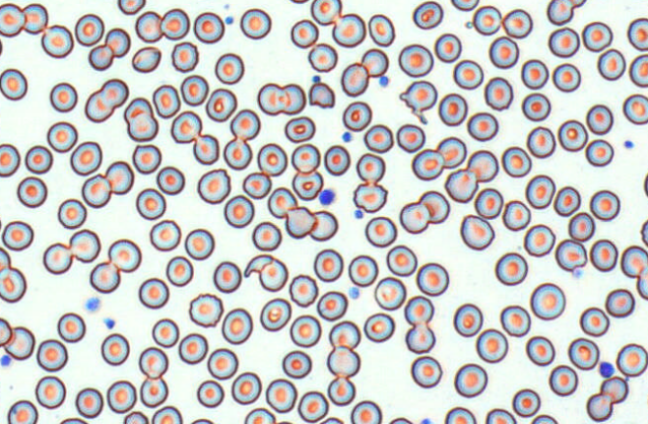PLT: (318, 188, 337, 208), (598, 362, 616, 378), (101, 316, 117, 331), (85, 297, 99, 313), (0, 353, 12, 368), (341, 130, 353, 143), (349, 287, 360, 301), (378, 76, 390, 88), (353, 208, 365, 220), (224, 14, 235, 26), (624, 139, 635, 150), (420, 417, 434, 424), (312, 74, 321, 84)
RBC: (84, 78, 128, 122), (257, 82, 306, 115), (123, 97, 158, 142), (530, 282, 565, 320), (459, 214, 494, 250), (188, 292, 223, 327), (444, 168, 478, 203), (398, 43, 433, 77), (197, 168, 230, 204), (453, 363, 487, 397), (332, 13, 366, 47), (475, 328, 508, 363), (221, 307, 252, 344), (416, 262, 449, 296), (108, 238, 141, 272), (40, 24, 73, 58), (265, 378, 297, 413), (205, 87, 237, 122), (494, 252, 527, 285), (69, 228, 101, 262), (374, 276, 406, 310), (34, 375, 66, 409), (259, 297, 291, 331), (70, 141, 102, 175), (523, 223, 555, 257), (352, 182, 387, 213), (4, 325, 35, 360), (418, 190, 450, 223), (326, 346, 359, 378), (170, 110, 202, 143), (289, 314, 321, 347), (411, 148, 444, 180), (410, 355, 442, 388), (466, 149, 498, 182), (567, 337, 599, 370), (555, 238, 587, 271), (223, 194, 254, 228), (616, 343, 647, 377), (81, 173, 111, 208), (453, 302, 483, 337), (525, 174, 555, 209), (206, 347, 238, 379), (149, 219, 181, 251), (297, 390, 328, 423), (135, 187, 166, 220), (106, 380, 137, 413), (499, 304, 530, 337), (364, 216, 397, 247), (36, 338, 67, 371), (488, 35, 519, 68), (104, 160, 134, 194), (313, 248, 343, 282), (257, 142, 287, 176), (483, 76, 513, 110), (340, 62, 369, 97), (89, 261, 120, 293), (229, 108, 260, 140), (138, 277, 169, 309), (386, 244, 417, 276), (1, 220, 33, 251), (193, 11, 224, 43), (557, 119, 588, 151), (589, 189, 620, 221), (239, 8, 271, 39), (138, 346, 168, 379), (288, 274, 318, 307), (231, 371, 261, 404), (348, 254, 378, 287), (74, 13, 104, 46), (526, 125, 556, 158), (259, 258, 289, 291), (438, 92, 467, 126), (316, 290, 347, 321), (46, 121, 77, 152), (16, 176, 47, 207), (548, 26, 579, 57), (581, 21, 612, 52), (399, 202, 429, 234), (42, 242, 72, 274), (328, 320, 360, 350), (267, 186, 297, 218), (291, 170, 323, 200), (178, 332, 208, 364), (548, 364, 578, 396), (363, 312, 395, 342), (436, 136, 466, 168), (184, 228, 214, 260), (214, 52, 244, 84), (466, 111, 498, 141), (223, 137, 252, 170), (100, 332, 129, 365), (212, 260, 241, 293), (589, 238, 618, 271), (152, 84, 180, 118), (0, 266, 26, 302), (355, 152, 385, 183), (525, 335, 555, 366), (579, 306, 609, 337), (342, 100, 372, 131), (501, 146, 531, 177), (501, 8, 532, 38), (452, 59, 483, 89), (502, 199, 531, 231), (474, 187, 503, 219), (134, 10, 163, 42), (160, 8, 189, 40), (597, 48, 626, 80), (367, 13, 395, 46), (405, 323, 435, 353), (251, 221, 281, 251), (363, 123, 393, 153), (307, 42, 337, 72), (57, 198, 86, 229), (132, 143, 161, 174), (412, 0, 443, 29), (180, 74, 208, 106), (585, 103, 613, 135), (620, 245, 647, 278), (404, 295, 433, 325), (139, 377, 168, 407), (156, 165, 185, 195), (291, 143, 320, 173), (24, 144, 53, 174), (605, 288, 635, 317), (472, 5, 501, 35), (552, 62, 581, 92), (521, 92, 551, 121), (165, 255, 193, 286), (281, 350, 312, 378), (75, 387, 103, 418), (284, 115, 315, 143), (553, 185, 581, 216), (171, 41, 199, 72), (520, 58, 548, 89), (192, 133, 219, 165), (0, 68, 27, 100), (0, 3, 25, 37), (511, 388, 540, 417), (396, 123, 425, 152), (327, 376, 355, 406), (151, 317, 179, 347), (567, 211, 595, 241), (57, 312, 85, 342), (49, 82, 77, 112), (131, 45, 161, 73), (323, 144, 350, 175), (196, 379, 224, 408), (242, 171, 271, 199), (360, 48, 388, 77), (290, 19, 318, 48), (434, 32, 461, 62), (22, 3, 48, 34), (600, 375, 628, 403), (585, 138, 613, 166), (586, 392, 613, 421), (104, 27, 130, 57), (310, 0, 341, 25), (622, 93, 647, 124), (7, 399, 38, 423), (350, 400, 381, 423), (0, 143, 20, 177), (627, 17, 647, 51), (88, 44, 114, 70), (546, 0, 573, 25), (629, 53, 647, 87), (151, 405, 182, 423), (444, 406, 476, 423), (243, 407, 275, 423), (485, 408, 516, 423), (117, 0, 145, 15), (636, 266, 647, 300), (0, 317, 12, 346), (123, 410, 148, 423), (450, 0, 479, 11), (0, 246, 11, 271), (530, 414, 558, 423), (640, 218, 648, 246), (319, 416, 344, 423), (388, 416, 413, 423), (59, 417, 88, 423), (568, 0, 586, 8), (643, 171, 648, 197), (190, 418, 214, 423), (289, 0, 309, 4), (275, 420, 294, 424), (0, 37, 3, 57)
Schistocyte: (400, 80, 437, 118), (285, 206, 317, 241), (309, 210, 340, 242), (309, 83, 337, 111), (242, 254, 274, 277)
